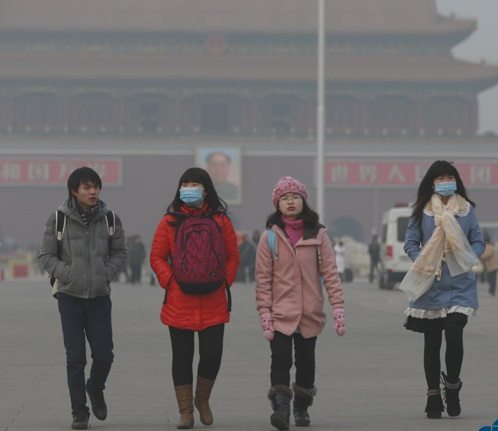person: (146, 163, 243, 431), (38, 162, 132, 431), (254, 174, 350, 431), (399, 157, 483, 423), (202, 151, 239, 201), (362, 234, 388, 285), (127, 227, 148, 286), (482, 236, 498, 297), (238, 232, 256, 285), (333, 239, 346, 281)
